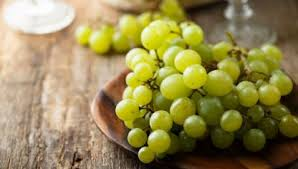Green grapes: (151, 44, 253, 117)
